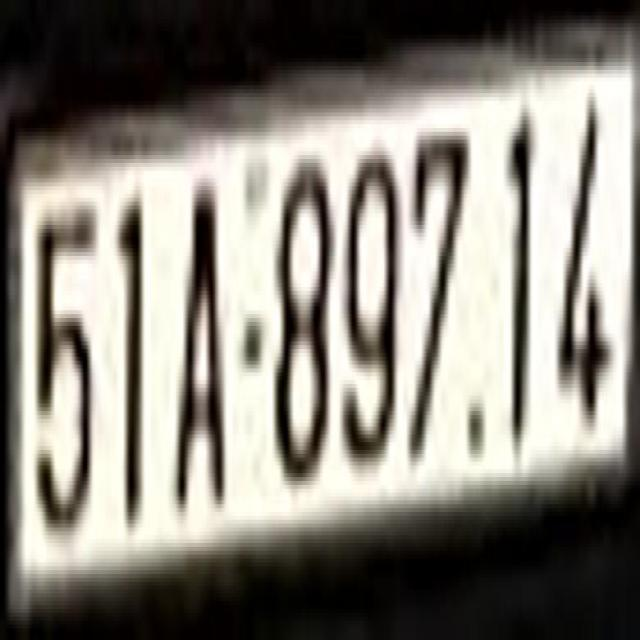1: (500, 97, 535, 489), (114, 182, 150, 528)
4: (554, 74, 612, 446)
5: (34, 194, 96, 547)
7: (408, 120, 470, 477)
8: (276, 147, 330, 489)
9: (340, 128, 400, 458)
A: (173, 182, 232, 516)
